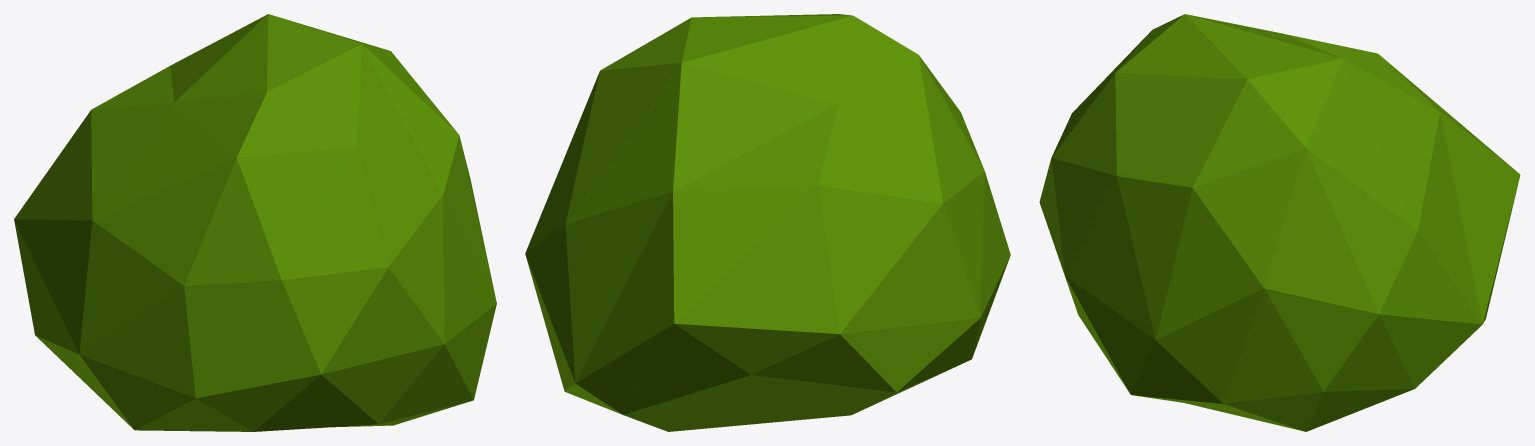
The model's file is bush5.glb.
The picture shows the model from 3 angles, left to right: view 1: azimuth 30°, elevation 25°; view 2: azimuth 150°, elevation 25°; view 3: azimuth 270°, elevation 25°; orthographic projection. The views are drawn at different scales.
Parts seen in each view (by area): view 1: bush.004; view 2: bush.004; view 3: bush.004.
Part boxes in pixels (x1,y1,x2,y2): bush.004: [14, 14, 496, 431]; bush.004: [525, 14, 1010, 431]; bush.004: [1039, 14, 1520, 431].
Bounding box in the file's own units: 0.9979 × 0.8857 × 1.12.
